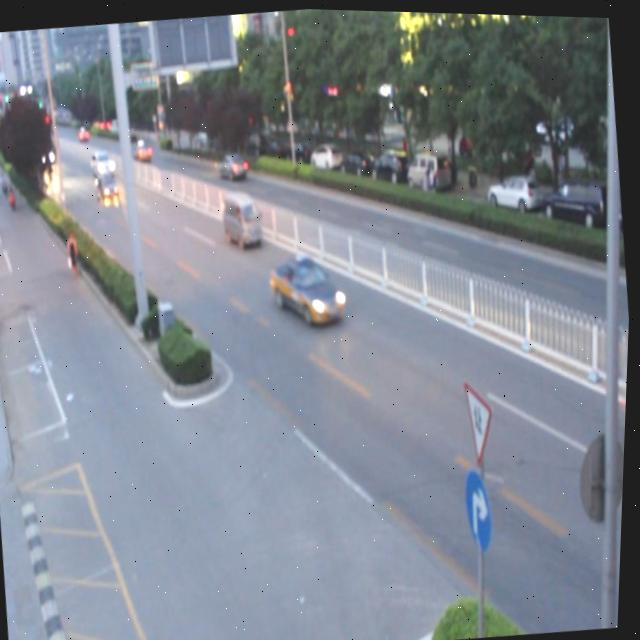car: (269, 248, 347, 327), (219, 150, 248, 180), (95, 170, 119, 201)
truck: (221, 187, 266, 251)
